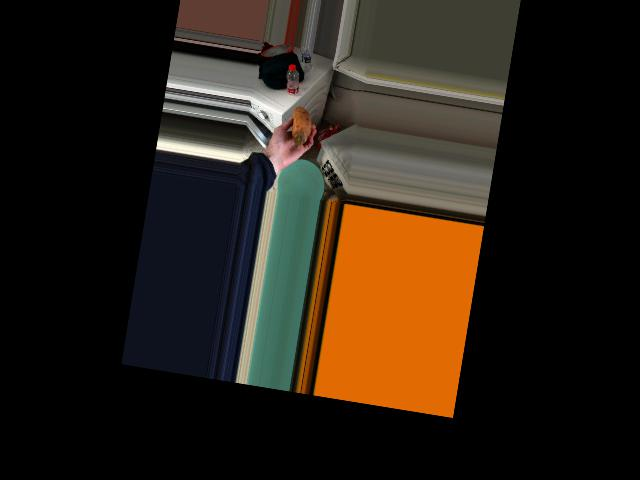sweet_potato: (285, 102, 312, 151)
